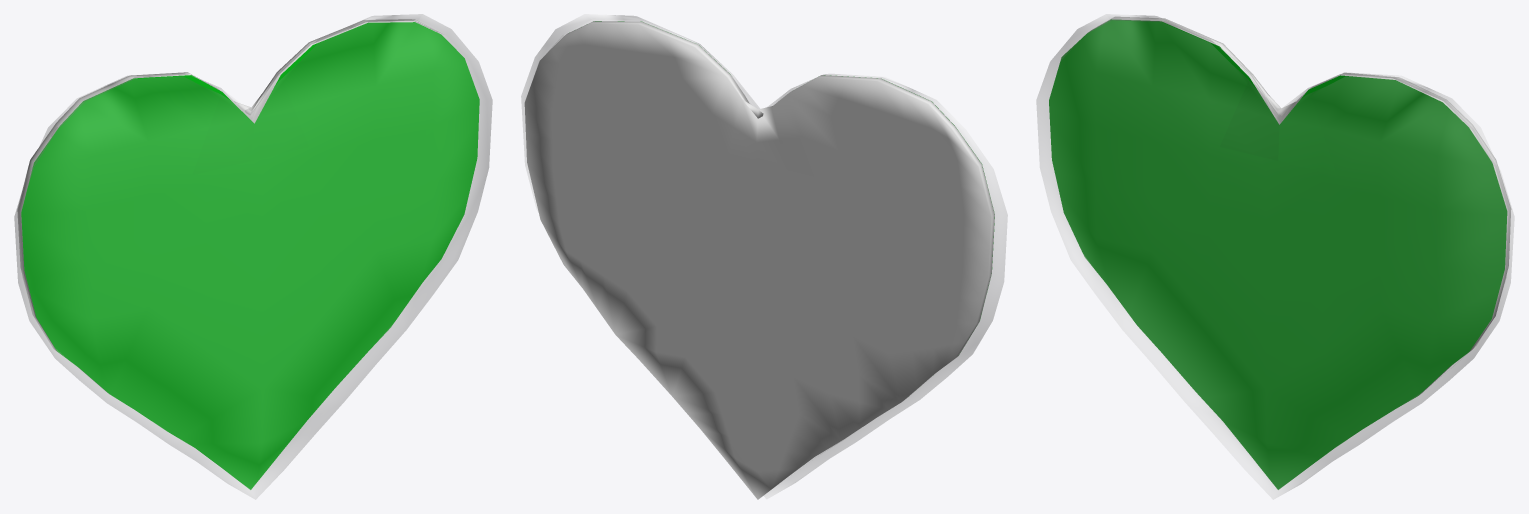
Rendered from heart_gre.glb.
3 renders of one model, left to right at view 1: azimuth 30°, elevation 25°; view 2: azimuth 150°, elevation 25°; view 3: azimuth 330°, elevation 25°, orthographic.
Visible parts, largest first — view 1: 平面, PHOTO_PLANE, 平面11; view 2: 平面11, 平面; view 3: 平面, PHOTO_PLANE, 平面11.
Part boxes in pixels (x1=…): 平面: x1=14, y1=14, x2=492, y2=499; PHOTO_PLANE: x1=21, y1=22, x2=479, y2=489; 平面11: x1=17, y1=19, x2=439, y2=391; 平面11: x1=524, y1=21, x2=994, y2=499; 平面: x1=521, y1=14, x2=1007, y2=498; 平面: x1=1036, y1=14, x2=1514, y2=499; PHOTO_PLANE: x1=1049, y1=19, x2=1507, y2=489; 平面11: x1=1091, y1=16, x2=1511, y2=394.
Size of the model in its own units: 2.28 by 2.05 by 0.1344.
